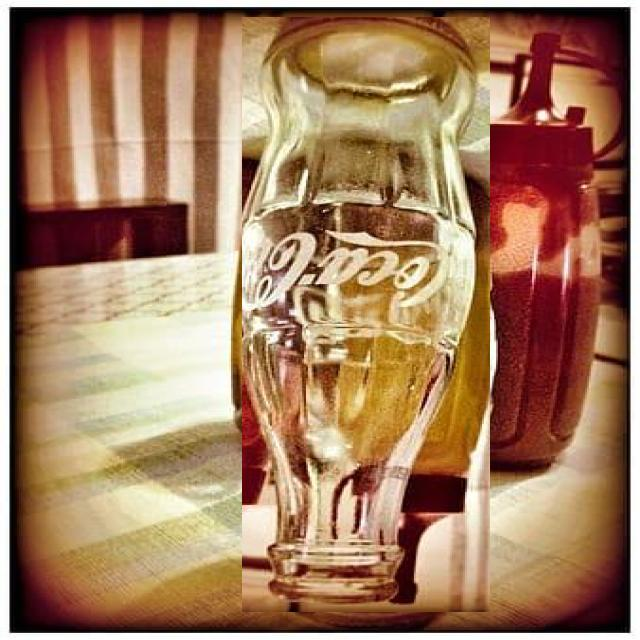coca-cola: (242, 17, 490, 612)
